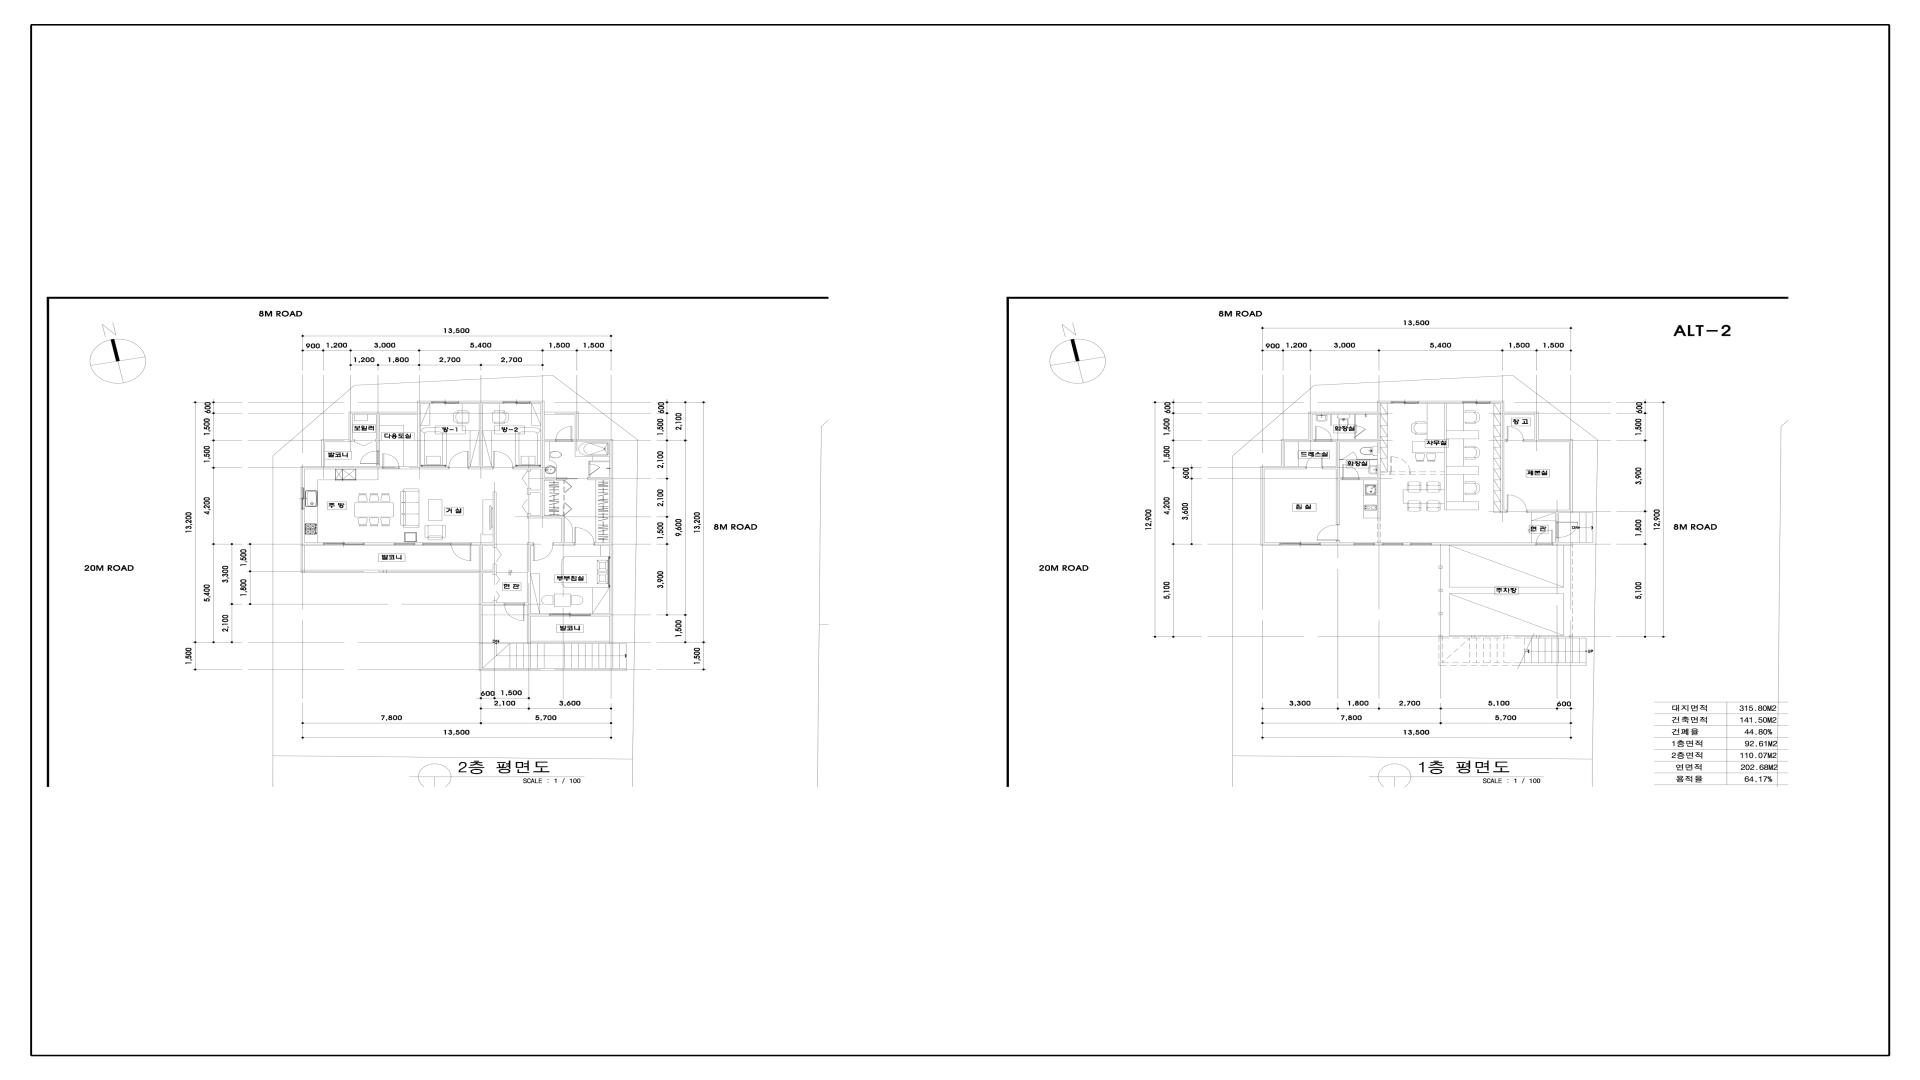door: (1506, 495, 1527, 513), (504, 603, 525, 621), (533, 542, 554, 560), (574, 527, 595, 546), (448, 451, 469, 469), (451, 542, 472, 560), (1556, 521, 1578, 538), (1316, 525, 1340, 541), (493, 451, 513, 469), (1506, 426, 1524, 442), (1305, 454, 1323, 469), (1342, 464, 1360, 480), (1315, 426, 1332, 442), (1536, 530, 1553, 546), (555, 426, 572, 442), (382, 454, 400, 469), (360, 451, 380, 464), (1354, 425, 1366, 438), (1342, 452, 1358, 460), (589, 463, 600, 475), (567, 477, 587, 480)
wall: (1527, 439, 1573, 521), (1308, 401, 1391, 439), (400, 414, 448, 469), (527, 469, 567, 516), (1261, 467, 1282, 546), (1323, 442, 1342, 525), (1360, 442, 1381, 518), (469, 404, 493, 469), (527, 513, 574, 546), (1524, 411, 1569, 442), (1332, 414, 1381, 442), (525, 603, 550, 644), (545, 411, 579, 439), (513, 442, 545, 471), (1282, 439, 1315, 467), (301, 509, 323, 546), (349, 411, 376, 442), (472, 542, 496, 575), (322, 439, 349, 467), (376, 401, 431, 414), (1501, 414, 1507, 513), (541, 401, 555, 442), (1490, 401, 1535, 414), (305, 570, 479, 572), (301, 467, 322, 488), (1431, 542, 1536, 546), (479, 572, 483, 671), (609, 546, 613, 644), (483, 669, 626, 671), (527, 542, 533, 603), (322, 464, 382, 469), (1444, 404, 1447, 510), (609, 480, 613, 546), (530, 641, 609, 644), (1320, 541, 1354, 546), (609, 439, 613, 480), (1553, 538, 1573, 546), (493, 492, 496, 547), (376, 414, 380, 451), (364, 542, 394, 546), (459, 401, 504, 404), (1419, 401, 1462, 404), (301, 546, 305, 572), (572, 439, 609, 442), (483, 601, 504, 605), (1282, 467, 1305, 469), (587, 477, 609, 480), (595, 542, 609, 546), (589, 460, 609, 463), (591, 613, 609, 616), (1374, 542, 1382, 546), (1403, 542, 1411, 546), (415, 542, 423, 546), (530, 401, 541, 404), (1358, 459, 1378, 460), (1331, 414, 1332, 426), (1354, 414, 1356, 425), (588, 475, 591, 477), (1340, 459, 1342, 460), (1354, 438, 1356, 439)
window: (1279, 542, 1320, 546), (423, 542, 451, 546), (550, 613, 591, 616), (323, 542, 364, 545), (394, 542, 415, 546), (301, 488, 305, 509), (1382, 542, 1403, 546), (1354, 542, 1374, 546), (1411, 542, 1431, 546), (431, 401, 459, 404), (502, 401, 530, 404), (1391, 401, 1419, 404), (1462, 401, 1490, 404)
